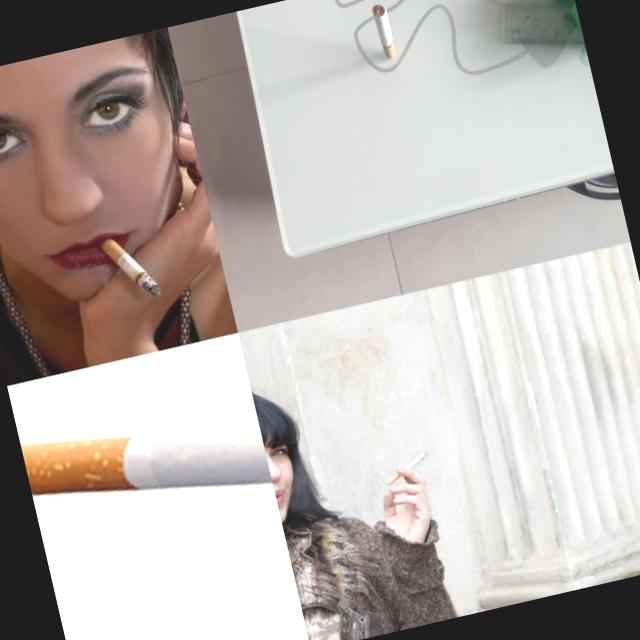smoke: (19, 387, 280, 567), (62, 572, 311, 640), (95, 228, 164, 309), (378, 445, 437, 490), (370, 2, 396, 60)
